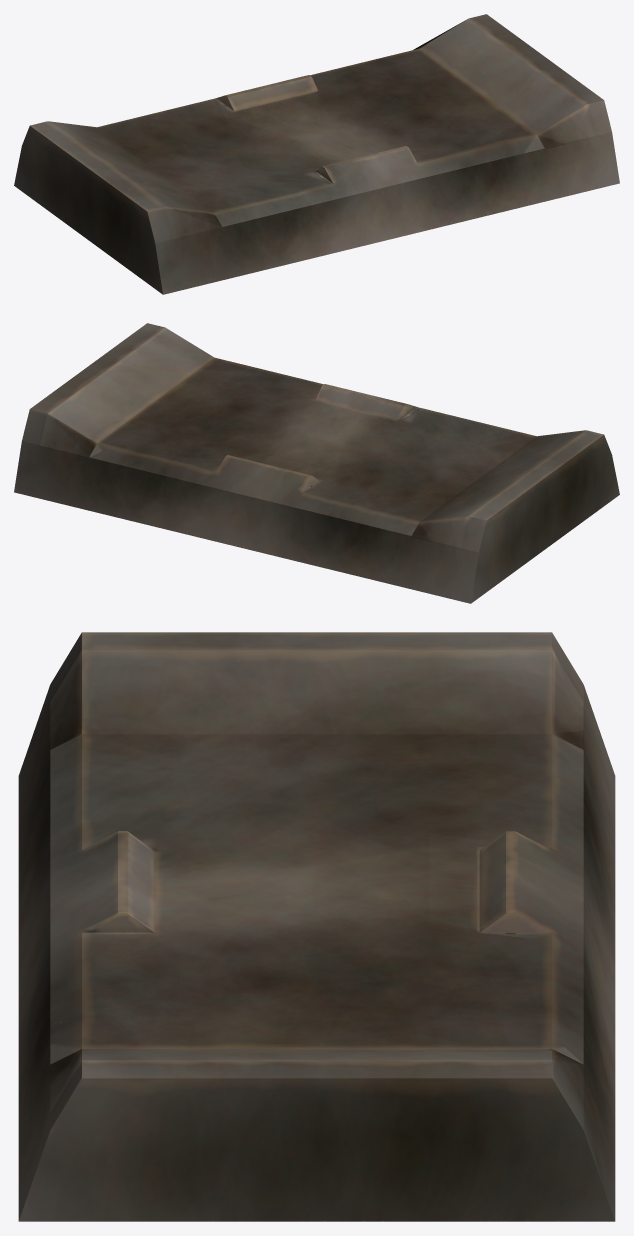
Rendered from juncao.fbx.
3 views of the same model, one above another, from view 1: azimuth 30°, elevation 25°; view 2: azimuth 150°, elevation 25°; view 3: azimuth 270°, elevation 25° (orthographic). The views are drawn at different scales.
Visible parts, largest first — view 1: Juncao_rampas; view 2: Juncao_rampas; view 3: Juncao_rampas.
Part boxes in pixels (box(x1,y1,x2,y2)): Juncao_rampas: box(14, 14, 619, 294); Juncao_rampas: box(14, 323, 619, 603); Juncao_rampas: box(18, 632, 615, 1221).
Bounding box in the file's own units: 1433 × 215 × 810.
